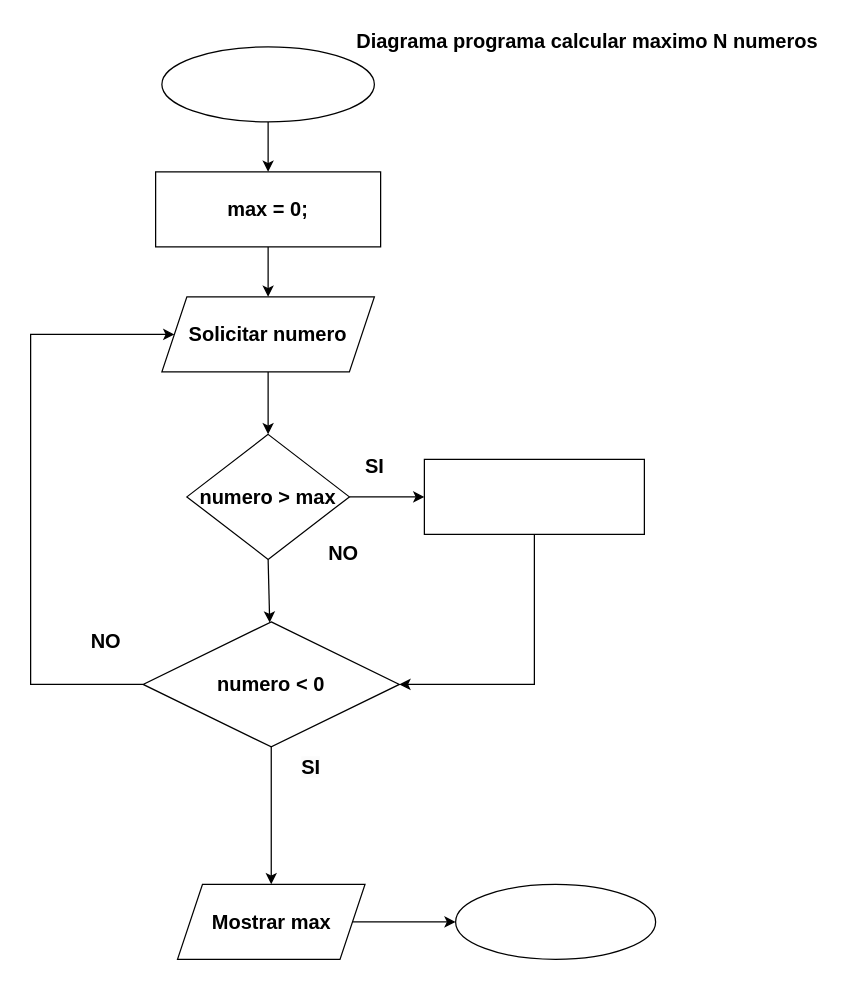
Image size: 853x981. Some labels were removed from this diagram. The centre of each missing label's shape, as x and y in pixels:
FIN: (x=555, y=921)
INICIO: (x=267, y=84)
max = numero: (x=533, y=496)
